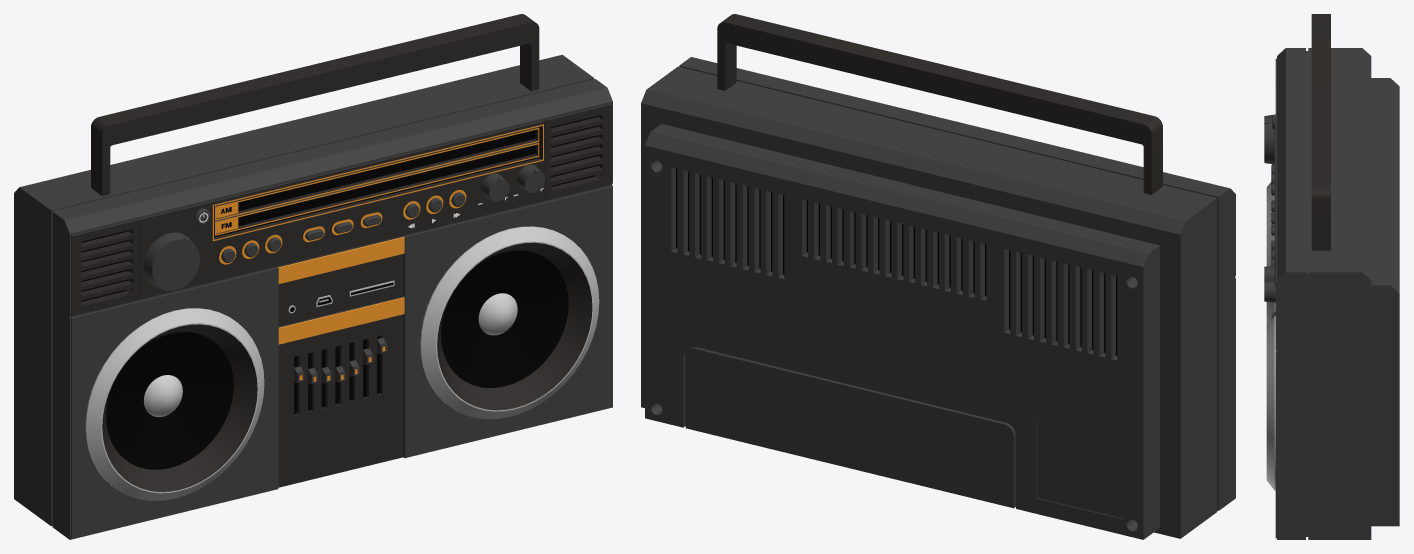
The model's file is boombox.glb.
The picture shows the model from 3 angles, left to right: view 1: azimuth 30°, elevation 25°; view 2: azimuth 150°, elevation 25°; view 3: azimuth 270°, elevation 25°; orthographic projection. The views are drawn at different scales.
Parts seen in each view (by area): view 1: Material2.001, Material2, Material2.003, Material2.004, Material2.002; view 2: Material2.001, Material2, Material2.003; view 3: Material2.001, Material2, Material2.004.
Part boxes in pixels (box(x1,y1,x2,y2)): Material2.001: box(14, 54, 612, 539); Material2: box(71, 14, 612, 491); Material2.003: box(81, 115, 597, 469); Material2.004: box(85, 226, 599, 500); Material2.002: box(212, 124, 543, 381); Material2.001: box(641, 57, 1235, 539); Material2: box(717, 14, 1162, 194); Material2.003: box(676, 168, 1117, 355); Material2.001: box(1264, 48, 1399, 539); Material2: box(1274, 14, 1330, 286); Material2.004: box(1266, 182, 1275, 490).
Bounding box in the file's own units: 18.58 × 12.58 × 4.72.
